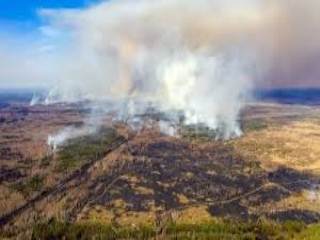smoke: (70, 29, 261, 145), (32, 80, 121, 153)
